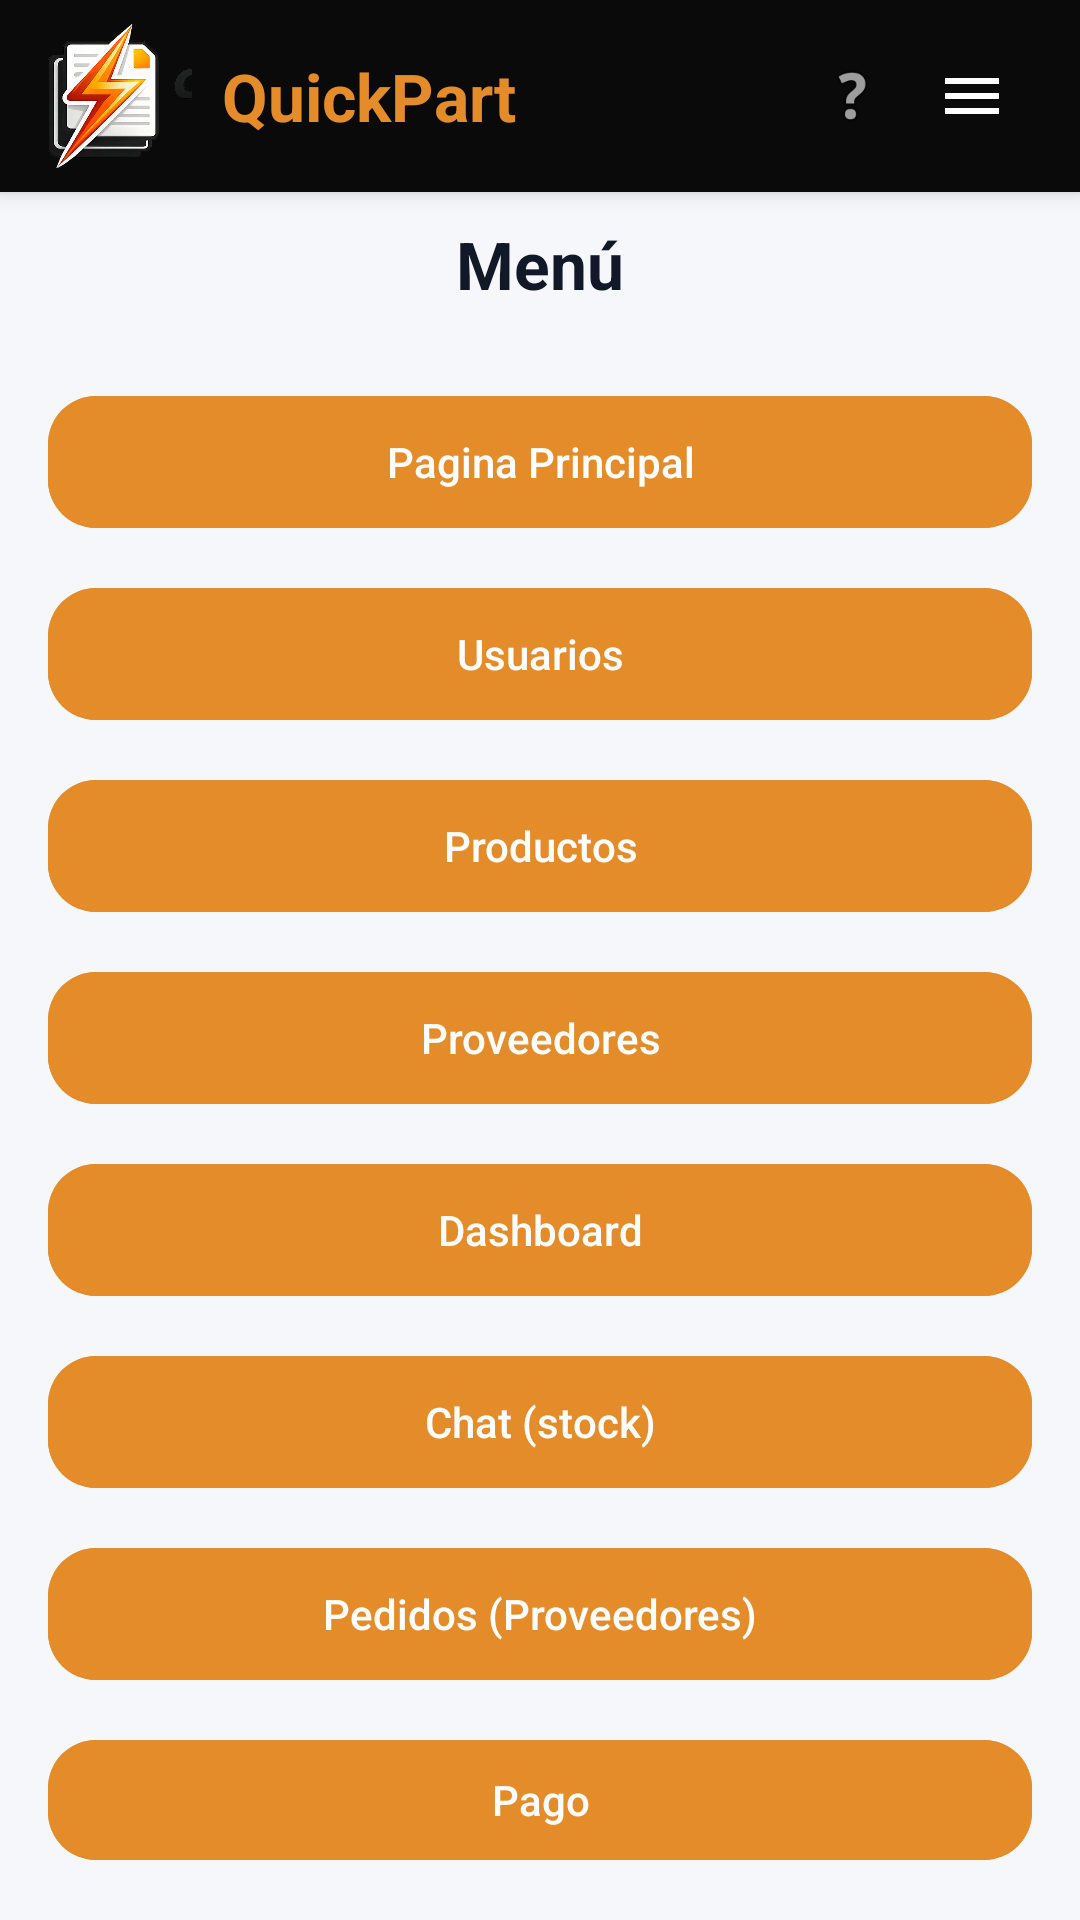

Where to tap for icons on this 1080px×1920px app screen, as [x,y]:
Menu: [972,96]
Necesitas Ayuda?: [852,96]
